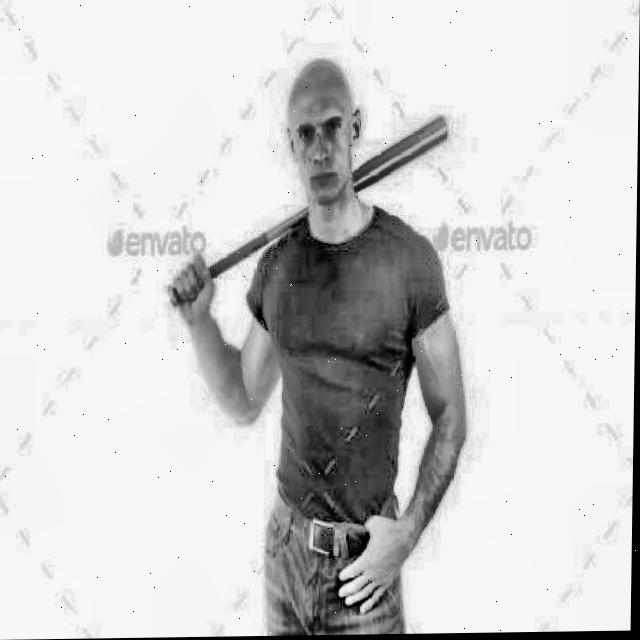tongkat pemukul: (157, 103, 463, 327)
